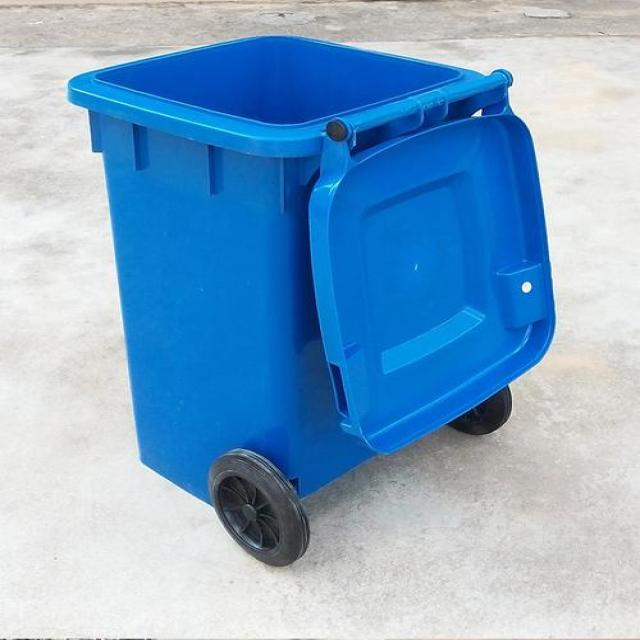garbage_bin: (66, 33, 556, 511)
